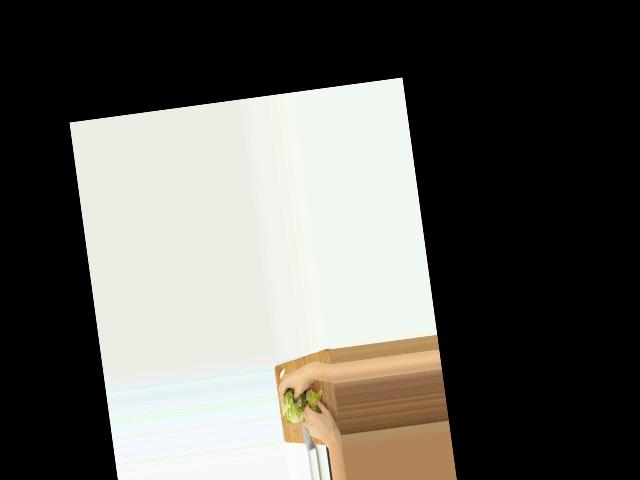lettuce: (280, 388, 307, 424)
